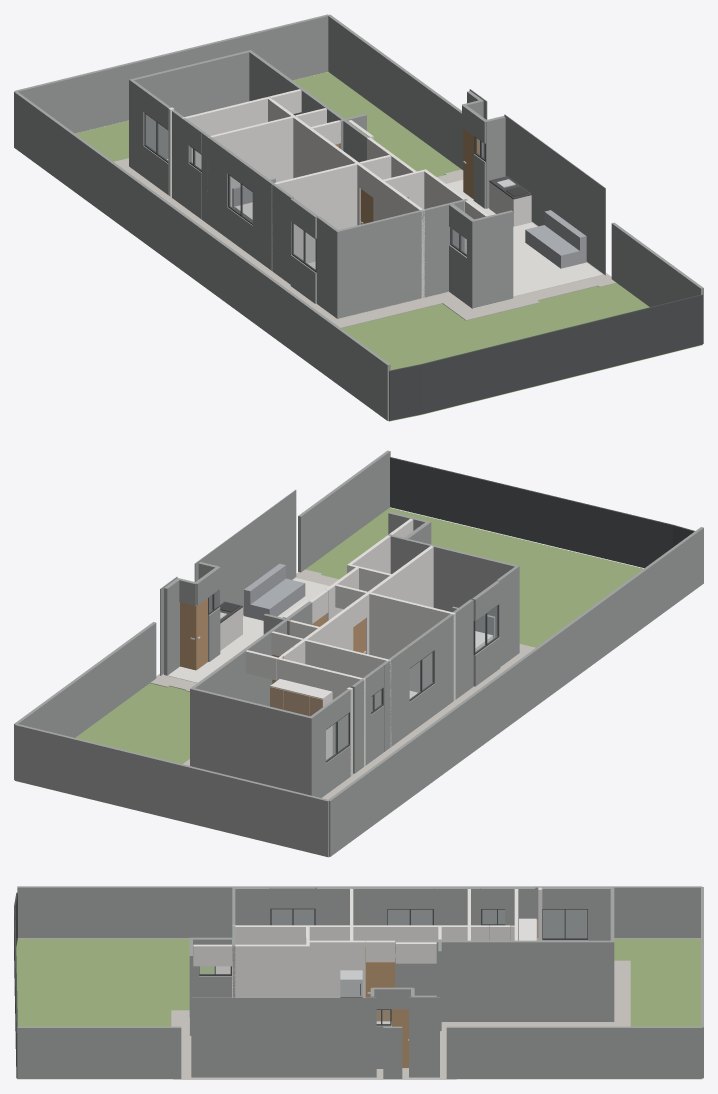
File: casa.glb
3 views of the same model, one above another, from view 1: azimuth 30°, elevation 25°; view 2: azimuth 150°, elevation 25°; view 3: azimuth 270°, elevation 25° (orthographic). The views are drawn at different scales.
Visible parts, largest first — view 1: fachada, parede, esquadria, grama, concreto, piso, tecido, vidro, armario, door3_swing__porta; view 2: fachada, grama, parede, esquadria, tecido, concreto, vidro, piso, armario, door5_swing__porta, madeira, door3_swing__porta; view 3: fachada, grama, parede, concreto, vidro, esquadria, door8_swing__porta, piso, inox, door3_swing__porta, armario.
Part boxes in pixels (x1=…): fachada: x1=14, y1=14, x2=703, y2=420; parede: x1=168, y1=89, x2=488, y2=297; esquadria: x1=144, y1=113, x2=702, y2=420; grama: x1=75, y1=72, x2=702, y2=421; concreto: x1=114, y1=158, x2=616, y2=328; piso: x1=166, y1=159, x2=607, y2=318; tecido: x1=232, y1=178, x2=586, y2=268; vidro: x1=145, y1=114, x2=483, y2=269; armario: x1=489, y1=182, x2=531, y2=226; door3_swing__porta: x1=463, y1=128, x2=474, y2=198; fachada: x1=14, y1=450, x2=703, y2=856; grama: x1=21, y1=507, x2=643, y2=857; parede: x1=245, y1=518, x2=455, y2=776; esquadria: x1=208, y1=457, x2=694, y2=762; tecido: x1=244, y1=563, x2=495, y2=638; concreto: x1=150, y1=569, x2=535, y2=799; vidro: x1=209, y1=592, x2=497, y2=760; piso: x1=159, y1=578, x2=417, y2=774; armario: x1=220, y1=607, x2=332, y2=759; door5_swing__porta: x1=180, y1=602, x2=196, y2=670; madeira: x1=270, y1=687, x2=322, y2=716; door3_swing__porta: x1=196, y1=598, x2=207, y2=669; fachada: x1=17, y1=886, x2=703, y2=1078; grama: x1=16, y1=939, x2=701, y2=1079; parede: x1=193, y1=887, x2=542, y2=997; concreto: x1=171, y1=960, x2=630, y2=1079; vidro: x1=200, y1=909, x2=586, y2=1023; esquadria: x1=14, y1=892, x2=587, y2=1078; door8_swing__porta: x1=366, y1=962, x2=394, y2=1021; piso: x1=189, y1=968, x2=612, y2=1078; inox: x1=340, y1=970, x2=362, y2=996; door3_swing__porta: x1=392, y1=1009, x2=408, y2=1068; armario: x1=519, y1=918, x2=536, y2=940.
Bounding box in the file's own units: 10.68 × 2.83 × 21.98.
